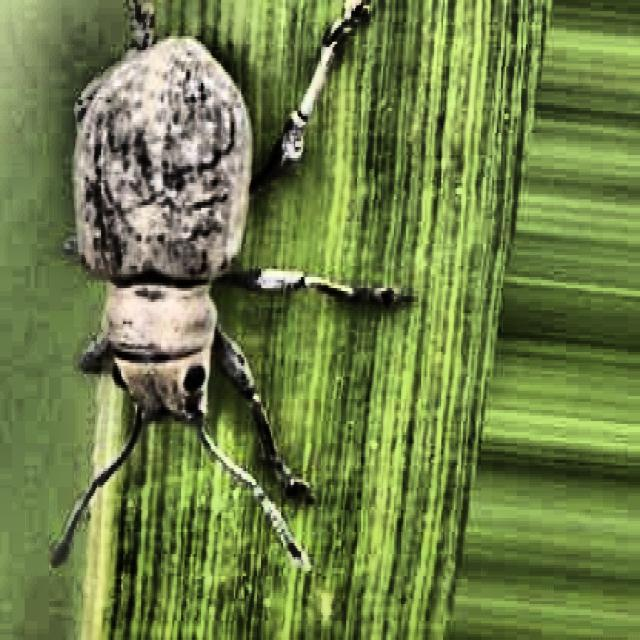Stink bug: (0, 14, 340, 526)
